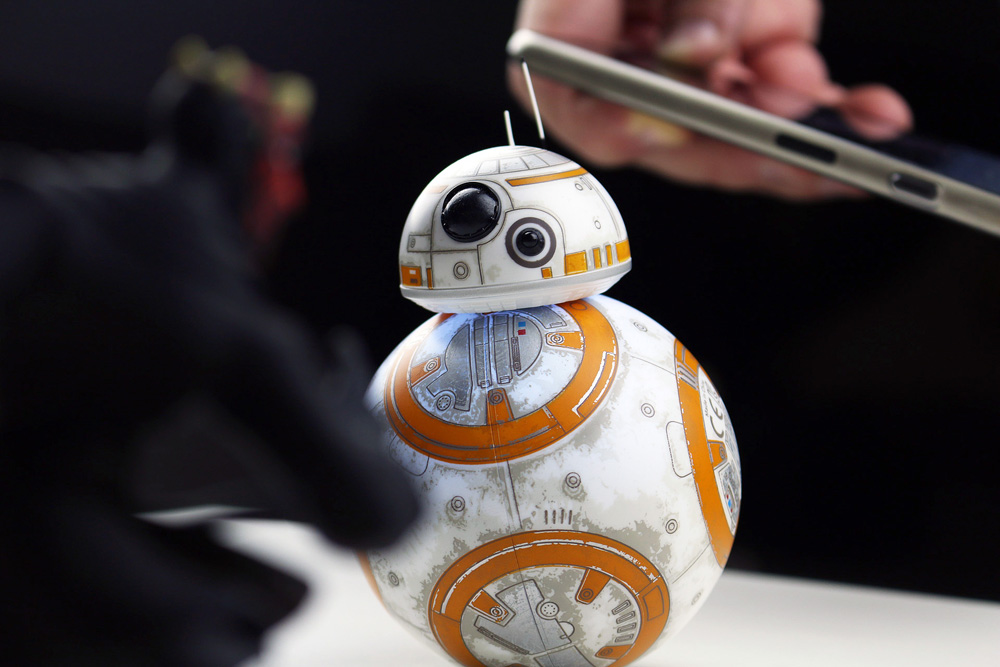bb8: (354, 145, 743, 667)
